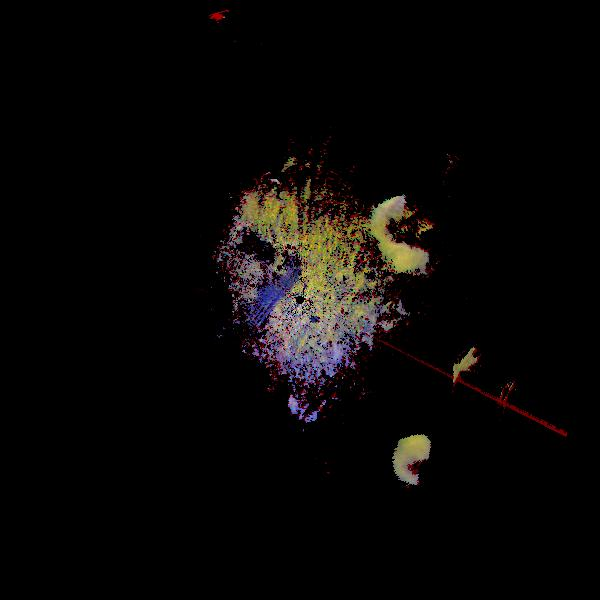roost: (361, 157, 496, 292), (383, 417, 485, 519)
